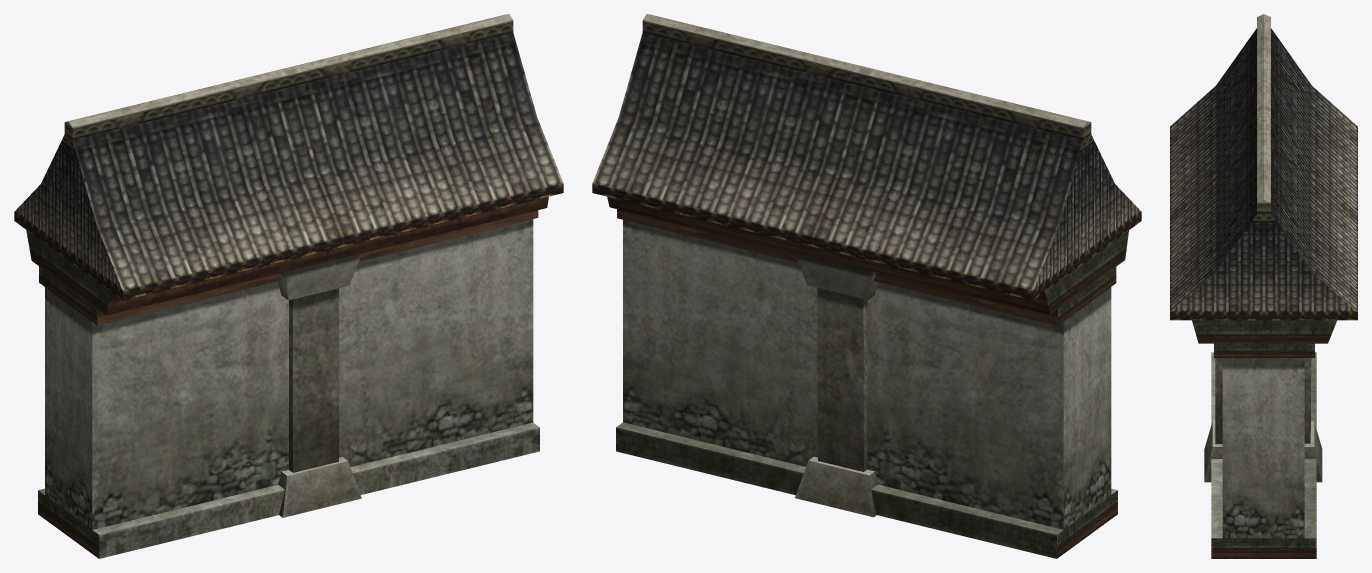
File: b1-038-wall-lin.fbx
3 renders of one model, left to right at view 1: azimuth 30°, elevation 25°; view 2: azimuth 150°, elevation 25°; view 3: azimuth 270°, elevation 25°, orthographic. The views are drawn at different scales.
Parts seen in each view (by area): view 1: b1-038-wall; view 2: b1-038-wall; view 3: b1-038-wall.
Part boxes in pixels (bbox=[...]): b1-038-wall: bbox=[14, 14, 563, 558]; b1-038-wall: bbox=[592, 14, 1141, 558]; b1-038-wall: bbox=[1170, 14, 1357, 558].
Size of the model in its own units: 5 by 4.5 by 2.13.
